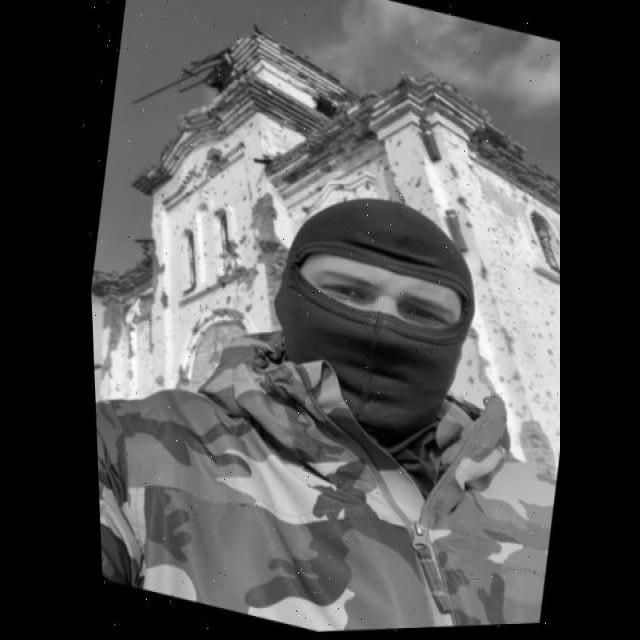6_pasamontana: (273, 195, 476, 438)
